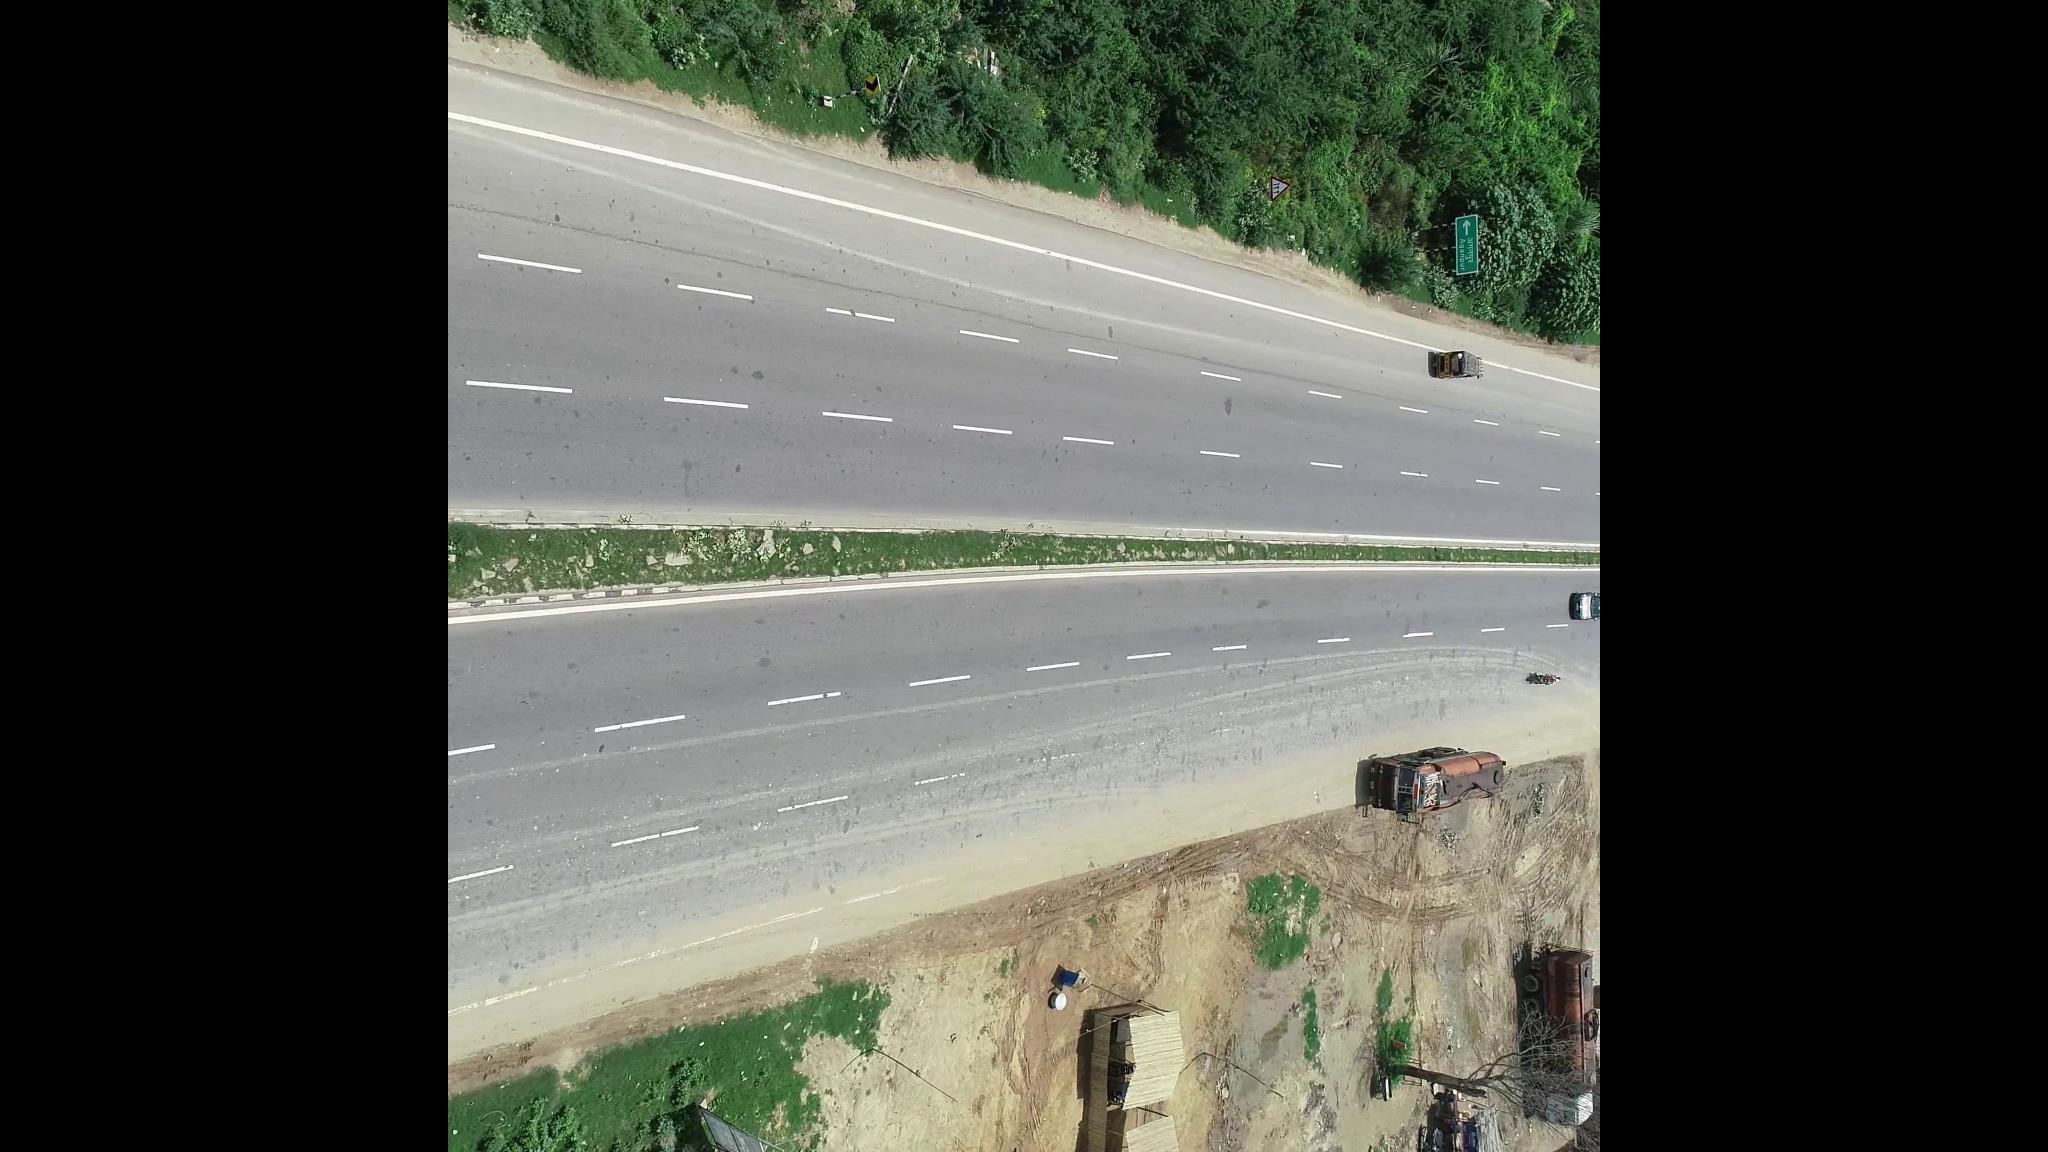Muddy_road: (1092, 768, 1308, 851)
